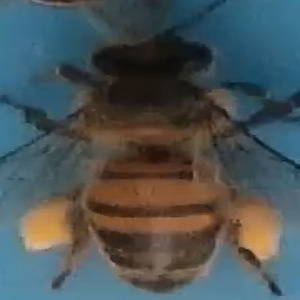bee: (12, 29, 300, 296)
